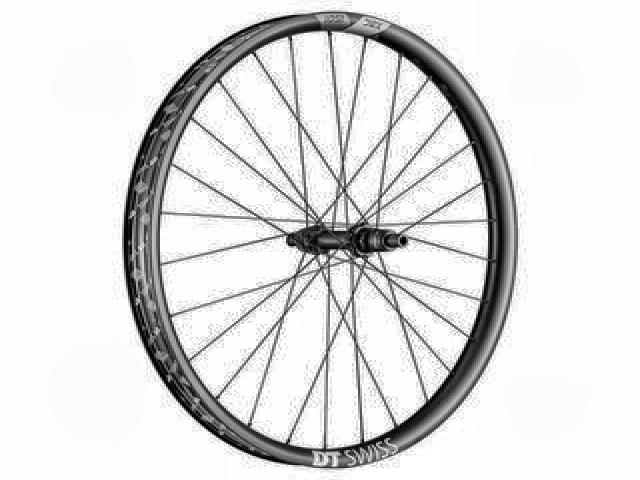wheel: (120, 9, 524, 470)
